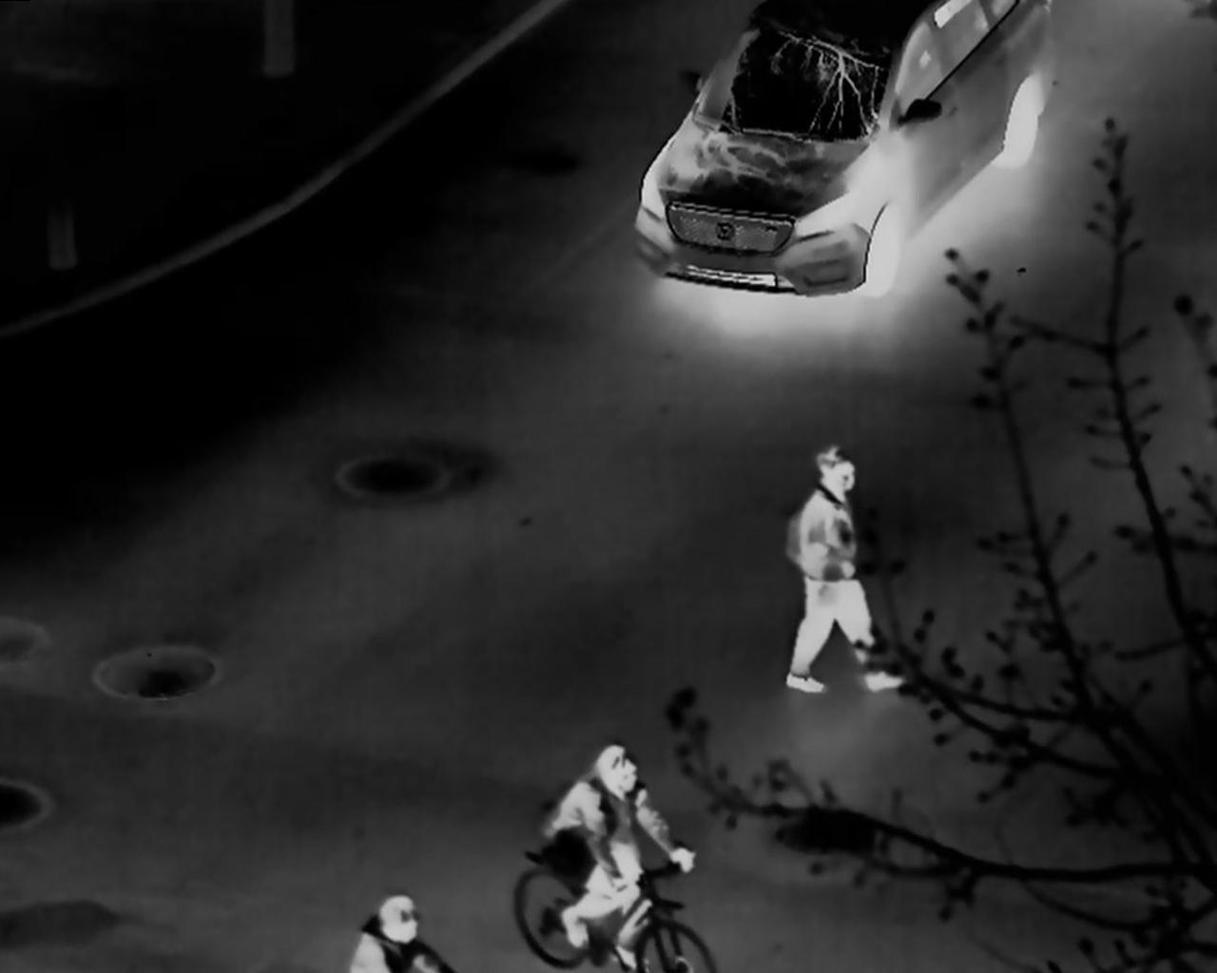person: (544, 743, 695, 972), (782, 444, 906, 696), (341, 887, 442, 973)
